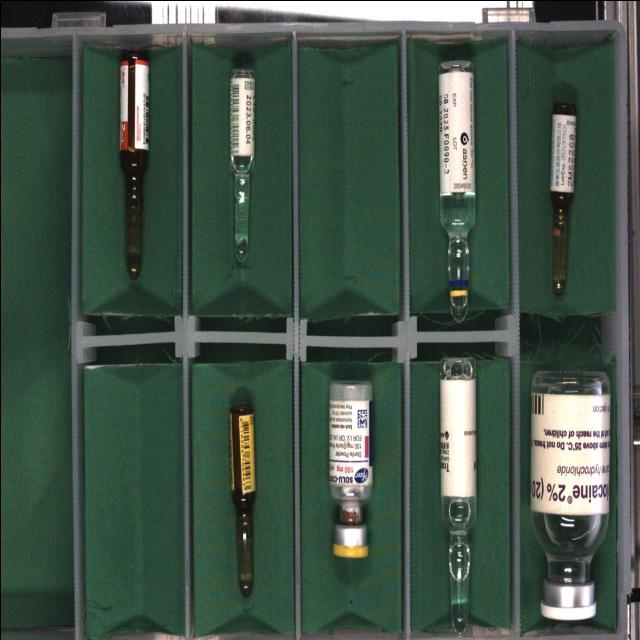Vials: (530, 371, 609, 619), (328, 380, 372, 557)
